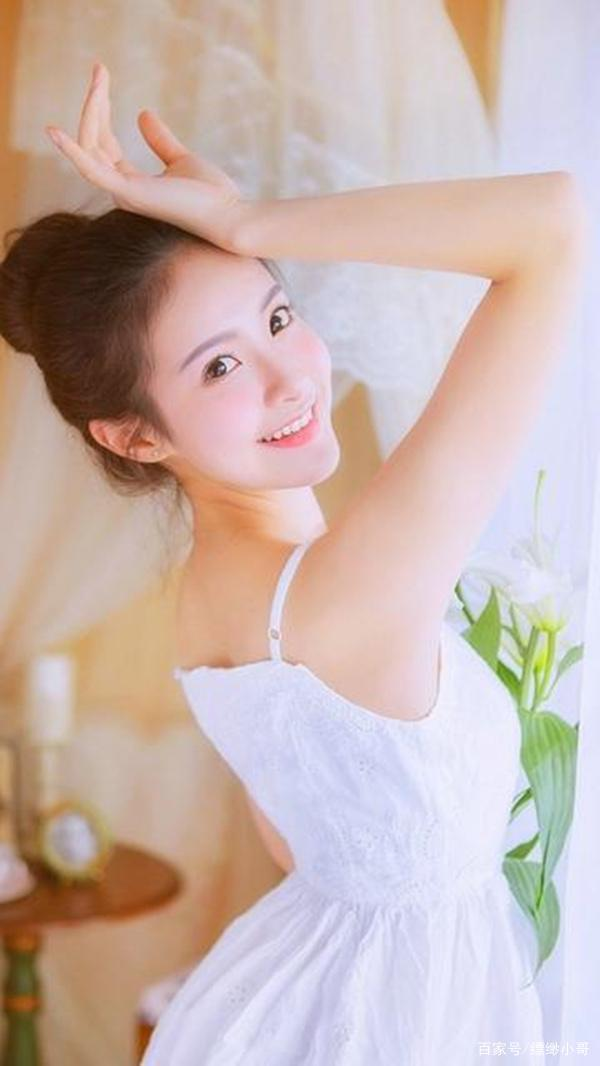person: (18, 143, 526, 995)
